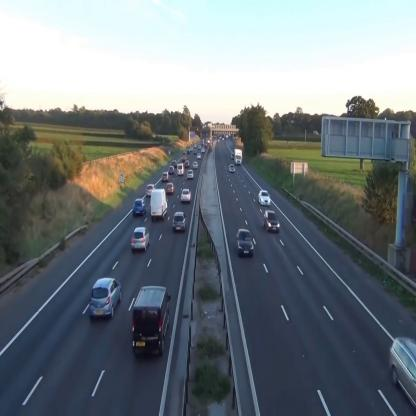car: (89, 277, 122, 320), (236, 230, 254, 257), (131, 227, 150, 251), (262, 210, 280, 233), (172, 212, 186, 232), (133, 198, 147, 216), (258, 190, 271, 207), (180, 189, 192, 203), (146, 184, 156, 196), (166, 182, 175, 194), (161, 172, 170, 182), (229, 164, 235, 173), (188, 170, 193, 179), (168, 166, 174, 173), (193, 161, 198, 168)
lorry: (132, 286, 170, 352), (150, 189, 168, 219), (234, 148, 242, 166), (177, 163, 184, 176)
